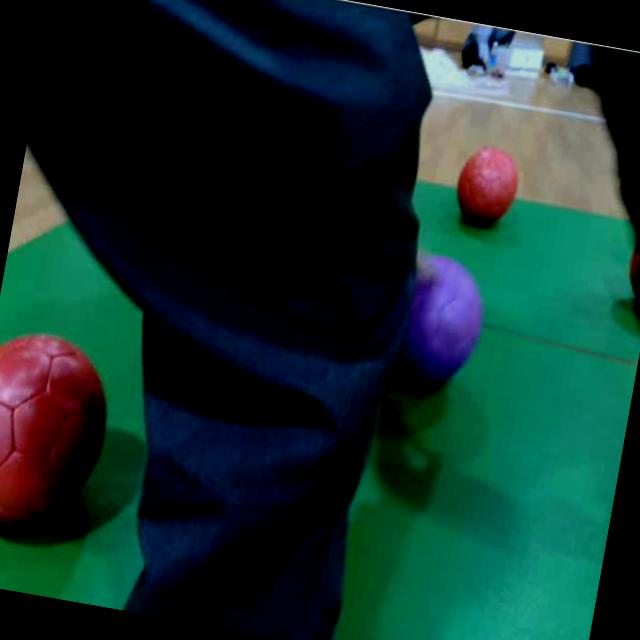purple_ball: (376, 248, 495, 399)
red_ball: (0, 320, 123, 544), (449, 142, 524, 233)
